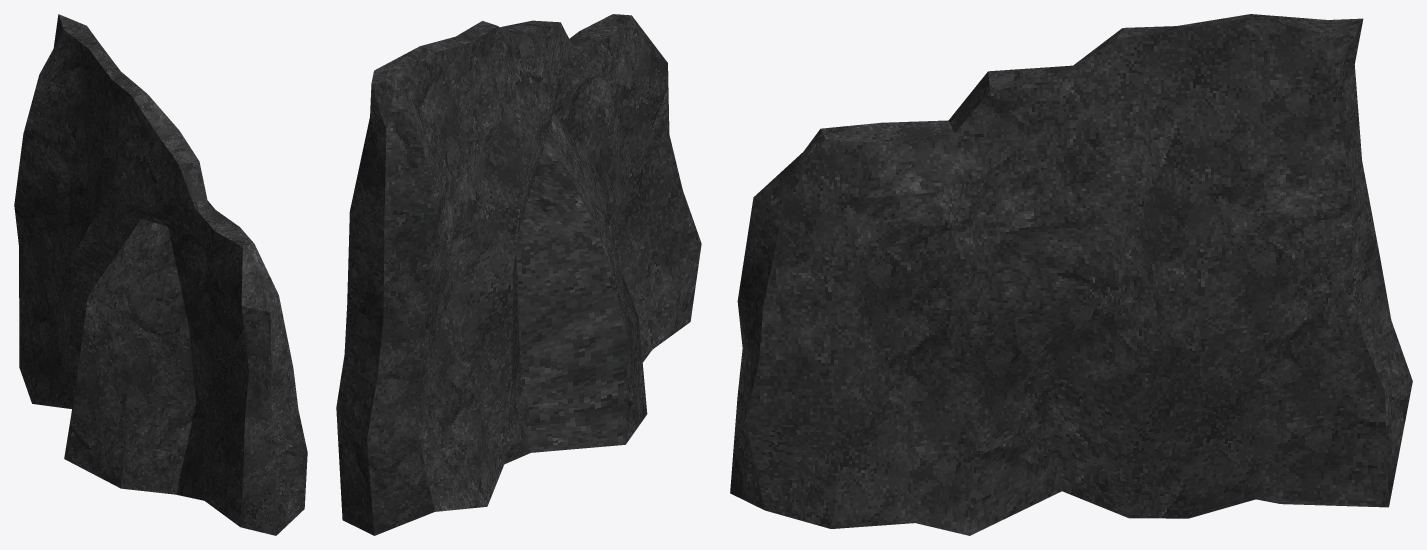
Rendered from CaveWallTall.glb.
The picture shows the model from 3 angles, left to right: view 1: azimuth 30°, elevation 25°; view 2: azimuth 150°, elevation 25°; view 3: azimuth 270°, elevation 25°; orthographic projection. The views are drawn at different scales.
Parts seen in each view (by area): view 1: Cube.102; view 2: Cube.102; view 3: Cube.102.
Part boxes in pixels (bbox=[...]): Cube.102: bbox=[14, 14, 307, 535]; Cube.102: bbox=[336, 14, 701, 535]; Cube.102: bbox=[730, 14, 1412, 535].
Size of the model in its own units: 3.15 by 7.41 by 9.33.
1 material, 1 textured.
